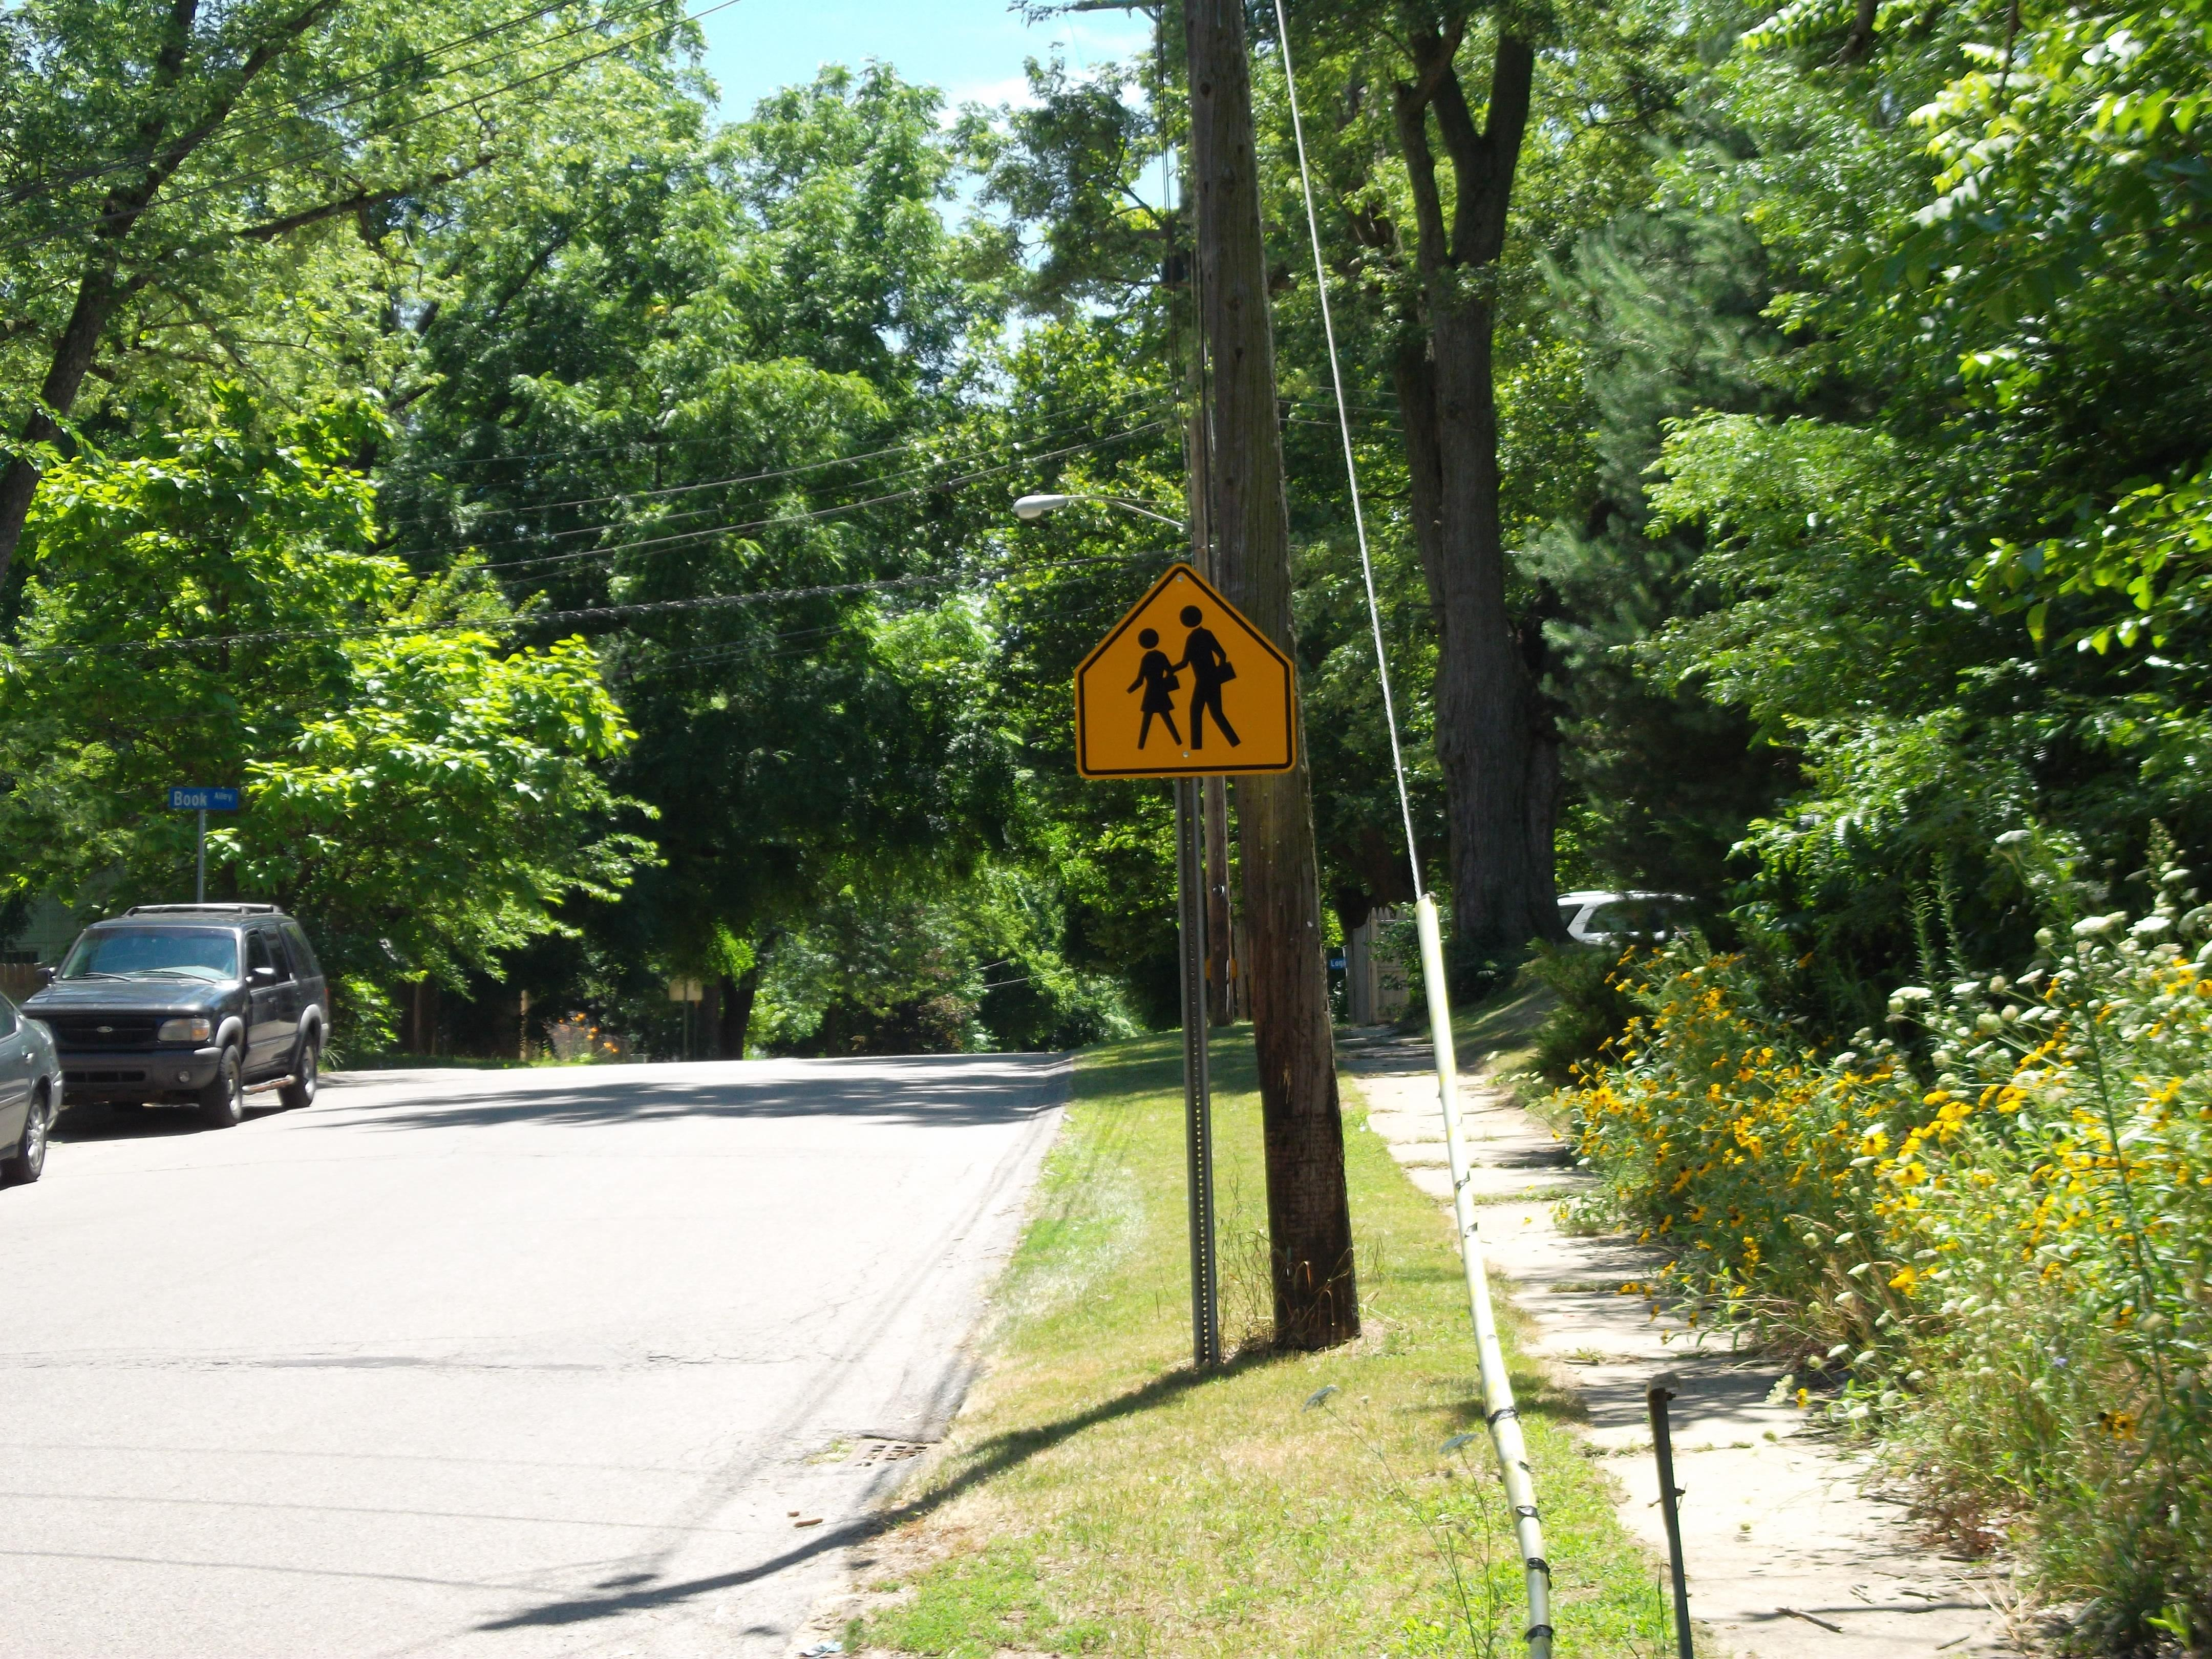warning: (1066, 561, 1303, 779)
